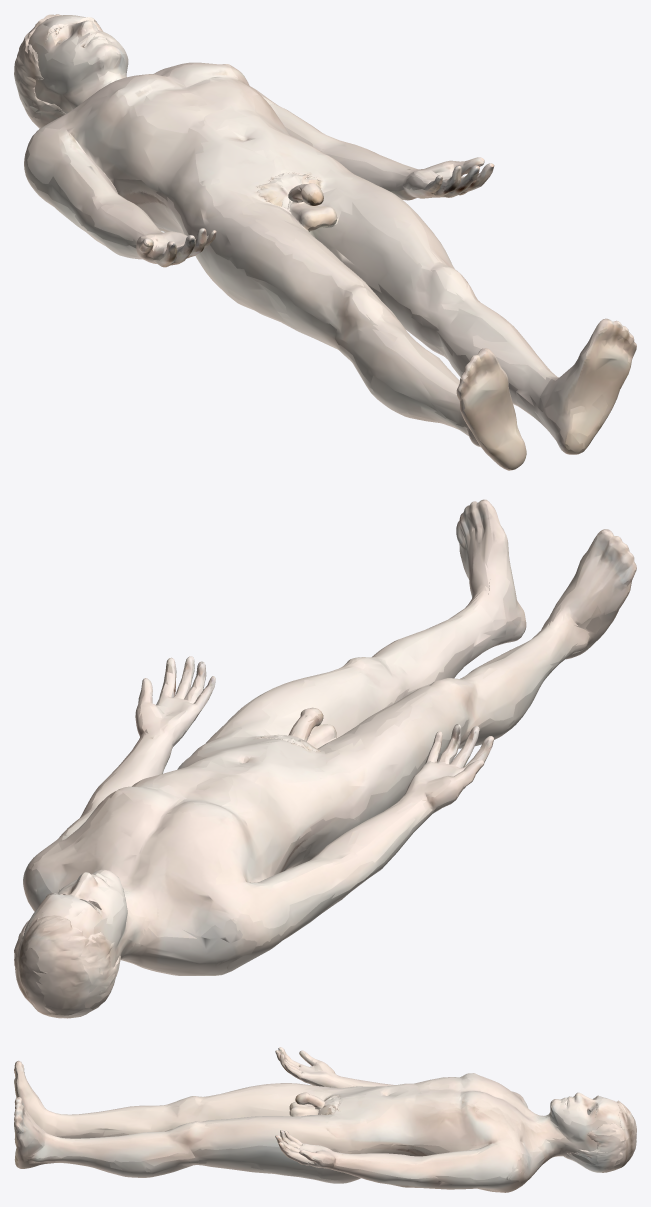
Rendered from skin-base-lux.glb.
3 renders of one model, top to bottom at view 1: azimuth 30°, elevation 25°; view 2: azimuth 150°, elevation 25°; view 3: azimuth 270°, elevation 25°, orthographic. The views are drawn at different scales.
Parts seen in each view (by area): view 1: FJ2810, FJ2813, FJ2815; view 2: FJ2810, FJ2813; view 3: FJ2810, FJ2813, FJ2815.
Part boxes in pixels (x1,y1,x2,y2): FJ2810: (24,15,636,470); FJ2813: (14,14,66,128); FJ2815: (256,172,320,209); FJ2810: (23,499,636,975); FJ2813: (14,915,120,1018); FJ2810: (14,1047,621,1192); FJ2813: (564,1100,636,1172); FJ2815: (318,1095,340,1114).
Bounding box in the file's own units: 0.6668 × 0.292 × 1.73.
Materials: 1 (1 with a texture image).
